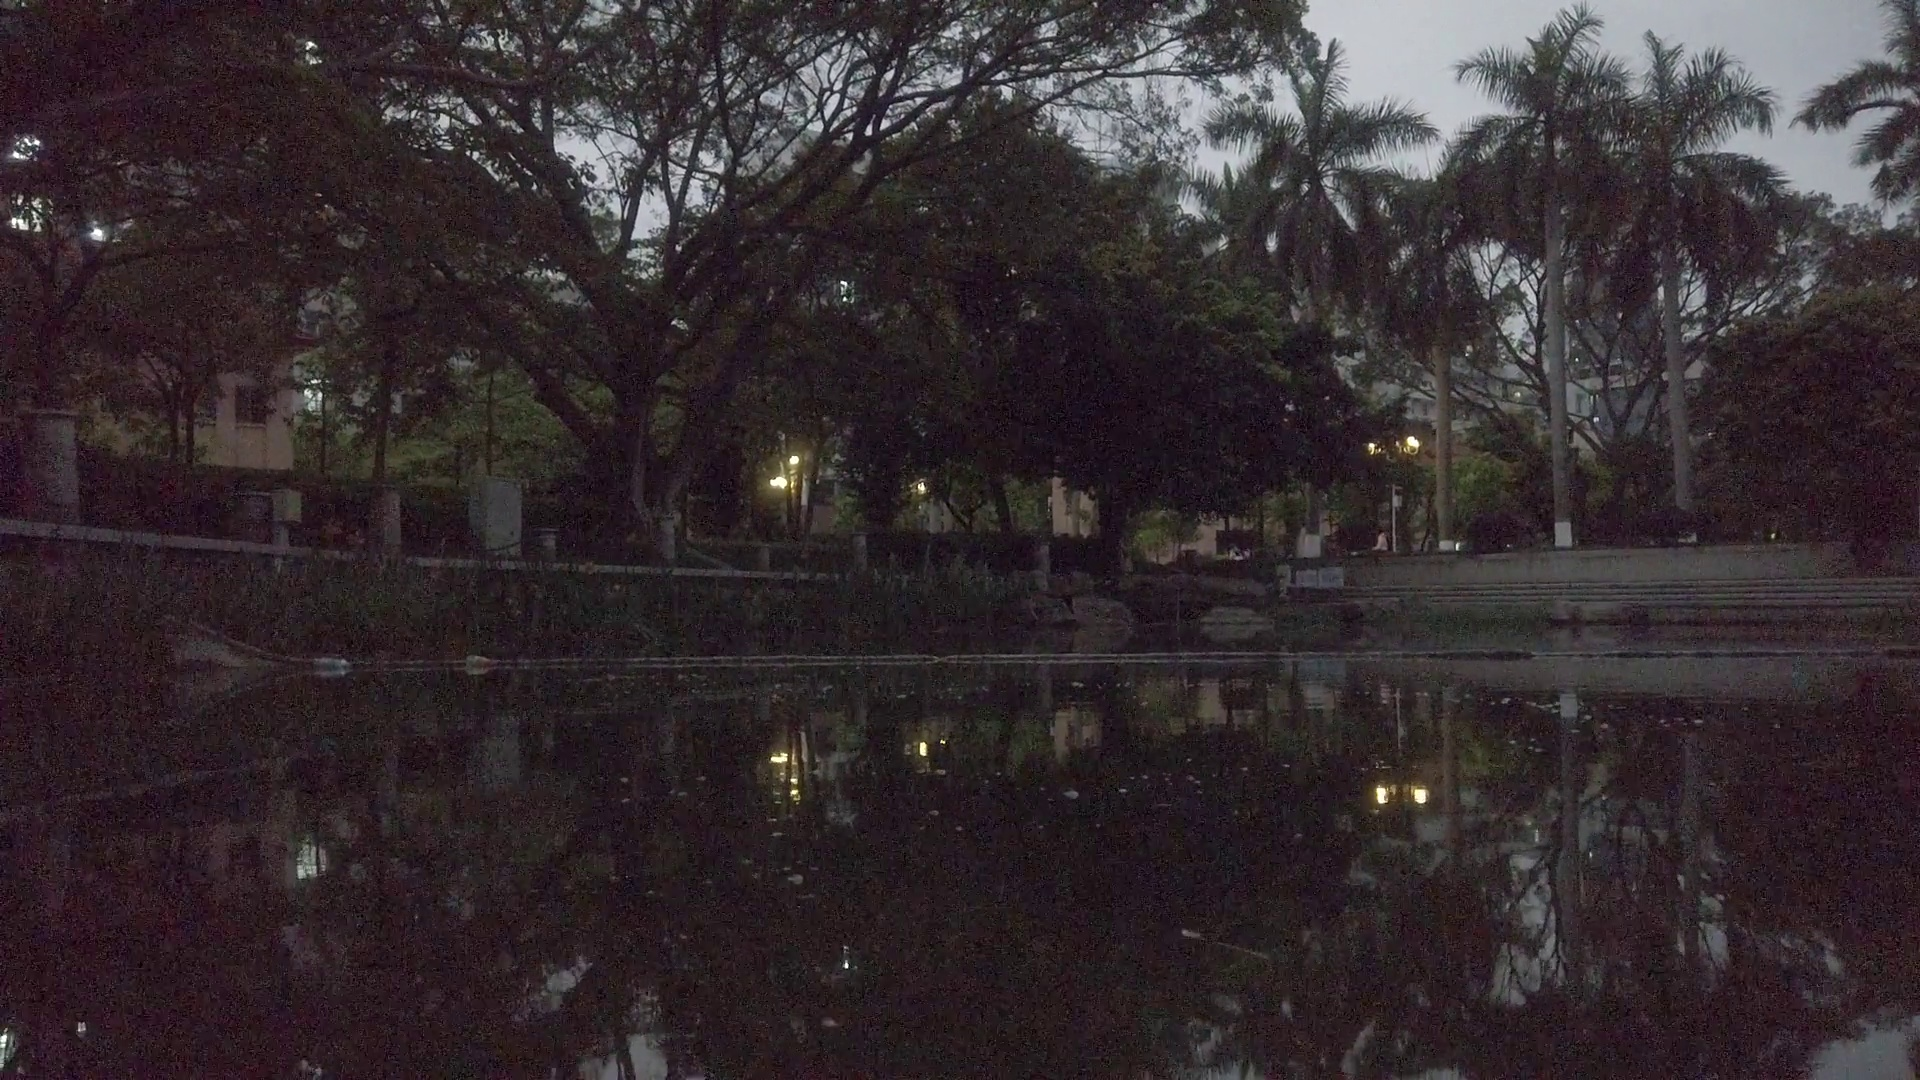bottle: (309, 655, 349, 676), (462, 654, 495, 670)
